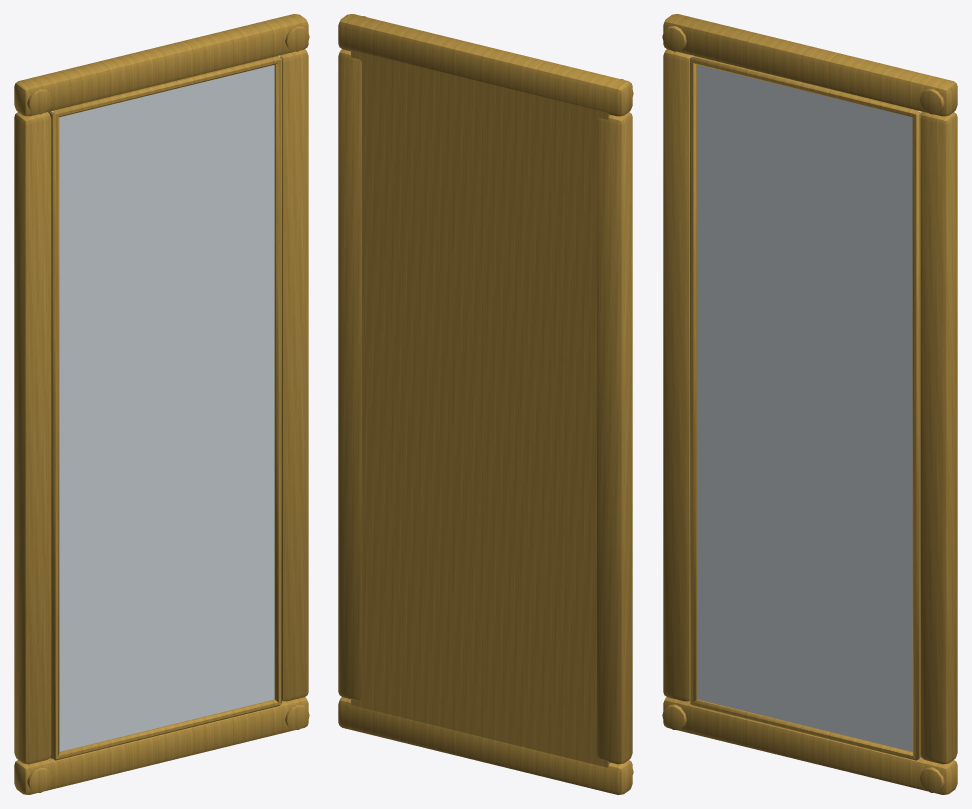
File: espelho-7x19.glb
3 renders of one model, left to right at view 1: azimuth 30°, elevation 25°; view 2: azimuth 150°, elevation 25°; view 3: azimuth 330°, elevation 25°, orthographic.
Parts seen in each view (by area): view 1: vidro, montante, montante.001, travessa, travessa.001, filete.002, filete.003, filete, filete.001; view 2: fundo, montante, montante.001, travessa, travessa.001; view 3: vidro, montante.001, montante, travessa, travessa.001, filete.003, filete.002, filete, filete.001.
Part boxes in pixels (bbox=[...]): vidro: bbox=[50, 55, 280, 759]; montante: bbox=[14, 112, 51, 764]; montante.001: bbox=[279, 49, 308, 701]; travessa: bbox=[14, 14, 308, 116]; travessa.001: bbox=[14, 697, 308, 794]; filete.002: bbox=[48, 111, 59, 759]; filete.003: bbox=[274, 58, 281, 703]; filete: bbox=[53, 56, 281, 117]; filete.001: bbox=[55, 699, 280, 760]; fundo: bbox=[351, 50, 610, 767]; montante: bbox=[597, 112, 632, 764]; montante.001: bbox=[338, 49, 361, 699]; travessa: bbox=[338, 14, 632, 116]; travessa.001: bbox=[338, 697, 632, 794]; vidro: bbox=[691, 55, 921, 759]; montante.001: bbox=[920, 112, 957, 764]; montante: bbox=[663, 49, 692, 701]; travessa: bbox=[663, 14, 957, 116]; travessa.001: bbox=[663, 697, 957, 794]; filete.003: bbox=[912, 111, 923, 759]; filete.002: bbox=[690, 58, 697, 703]; filete: bbox=[690, 56, 919, 117]; filete.001: bbox=[691, 699, 916, 760].
Size of the model in its own units: 0.88 by 2.08 by 0.079.
2 materials, 1 textured.
